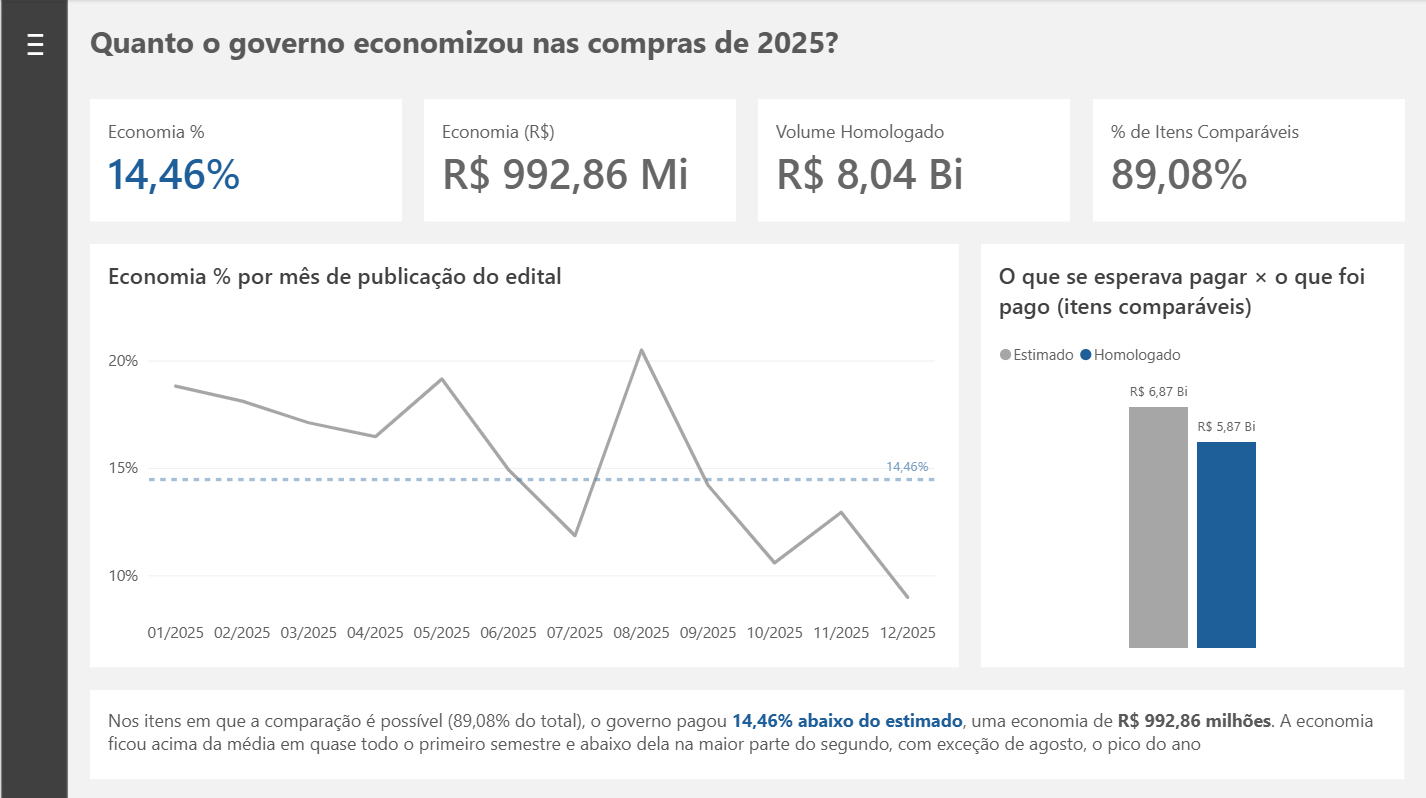

The page's visual inventory and layout, read from the dashboard file:
{"tool":"powerbi","page":{"name":"1 Economia","canvas":[1280,720],"ordinal":1},"visuals":[{"type":"textbox","box":[80,20,1180,50],"z":0},{"type":"cardVisual","fields":{"Data":["Medidas.% de Itens Comparáveis"]},"box":[980,90,280,110],"z":1000},{"type":"cardVisual","fields":{"Data":["Medidas.Volume Homologado"]},"box":[680,90,280,110],"z":2000},{"type":"cardVisual","fields":{"Data":["Medidas.Economia (R$)"]},"box":[380,90,280,110],"z":3000},{"type":"cardVisual","fields":{"Data":["Medidas.Economia %"]},"box":[80,90,280,110],"z":4000},{"type":"lineChart","title":"Economia % por mês de publicação do edital","fields":{"Category":["Calendario.Ano Mes"],"Y":["Medidas.Economia %"]},"box":[80,220,780,380],"z":5000},{"type":"clusteredColumnChart","title":"O que se esperava pagar × o que foi pago (itens comparáveis)","fields":{"Y":["Medidas.Valor Estimado Comparável","Medidas.Homologado Comparável"]},"box":[880,220,380,380],"z":6000},{"type":"textbox","box":[80,620,1180,80],"z":7000}]}

Visuals, with their boxes on the page's 1280x720 design canvas (x1, y1, x2, y2). These are canvas units, not pixel positions in the 1426x798 screenshot, which may show the page scaled, cropped or inside an application window:
textbox: (80, 20, 1260, 70)
cardVisual - Medidas.% de Itens Comparáveis: (980, 90, 1260, 200)
cardVisual - Medidas.Volume Homologado: (680, 90, 960, 200)
cardVisual - Medidas.Economia (R$): (380, 90, 660, 200)
cardVisual - Medidas.Economia %: (80, 90, 360, 200)
"Economia % por mês de publicação do edital" lineChart: (80, 220, 860, 600)
"O que se esperava pagar × o que foi pago (itens comparáveis)" clusteredColumnChart: (880, 220, 1260, 600)
textbox: (80, 620, 1260, 700)
